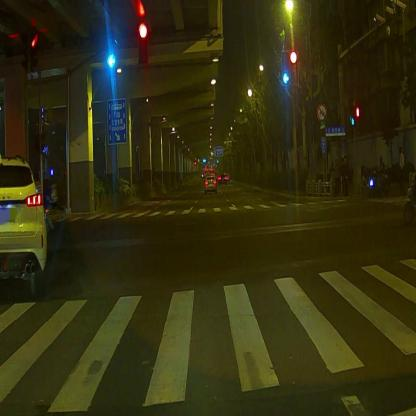Red Light: (137, 21, 149, 66), (289, 49, 298, 85)
